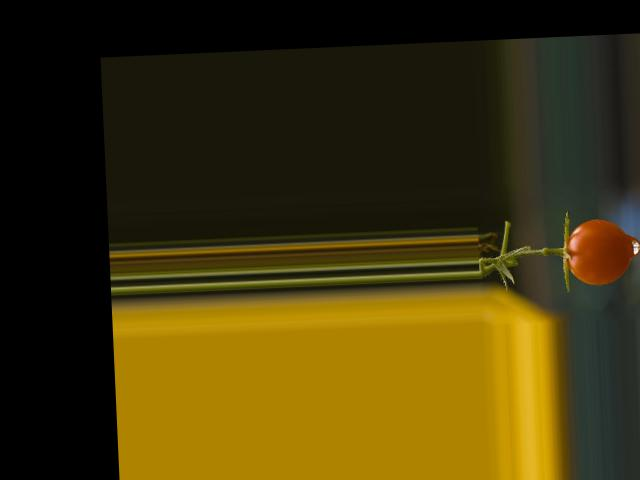tomato: (564, 217, 632, 285)
